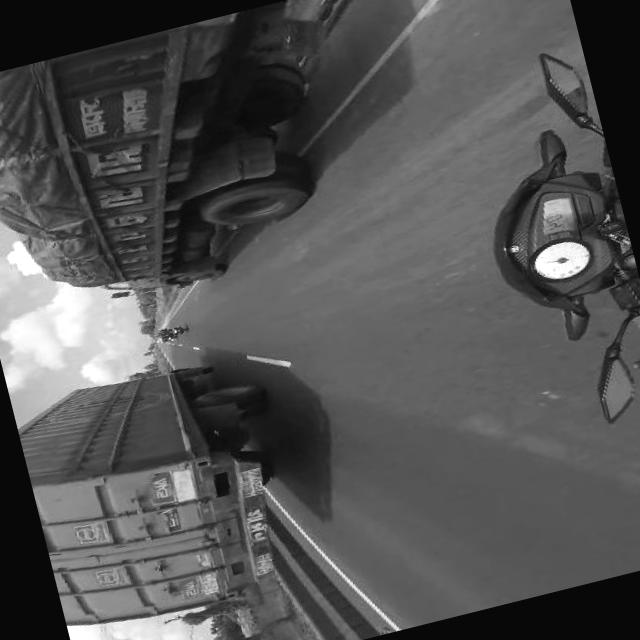motorcycle: (452, 39, 640, 440), (152, 320, 188, 338), (155, 332, 178, 343)
truck: (0, 3, 344, 331), (13, 342, 306, 636)
